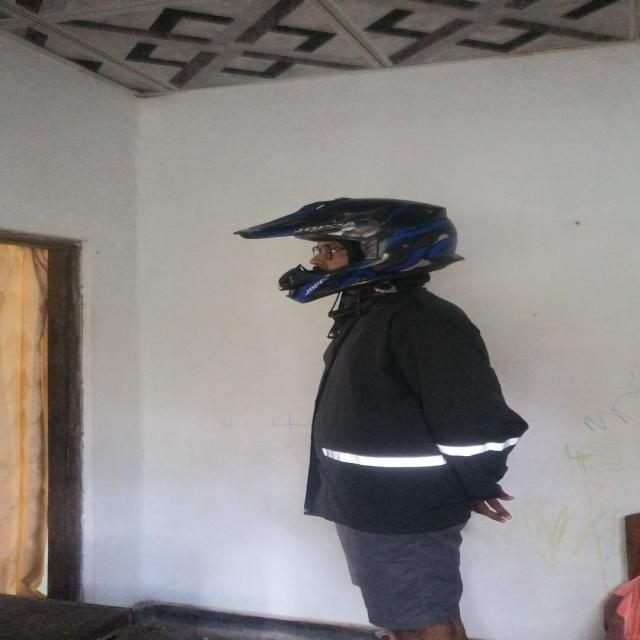Helmet_Wearer: (256, 184, 470, 310)
Jacket_Wearer: (308, 277, 520, 554)
Person: (259, 180, 532, 639)
